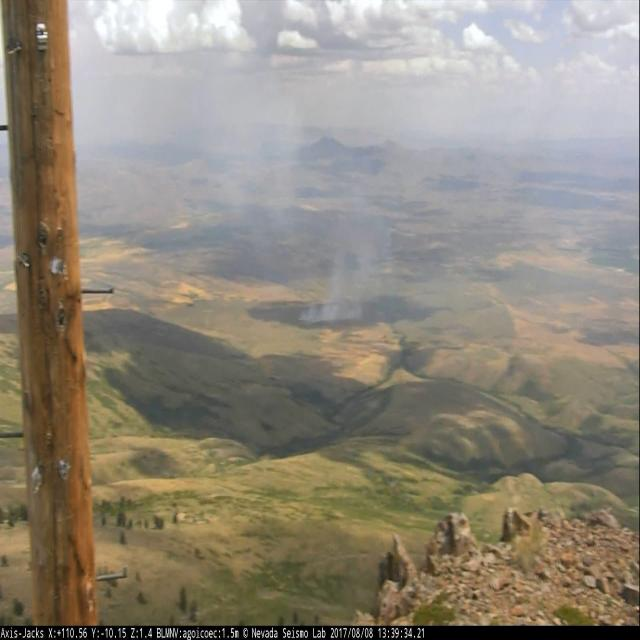smoke: (300, 194, 390, 320)
